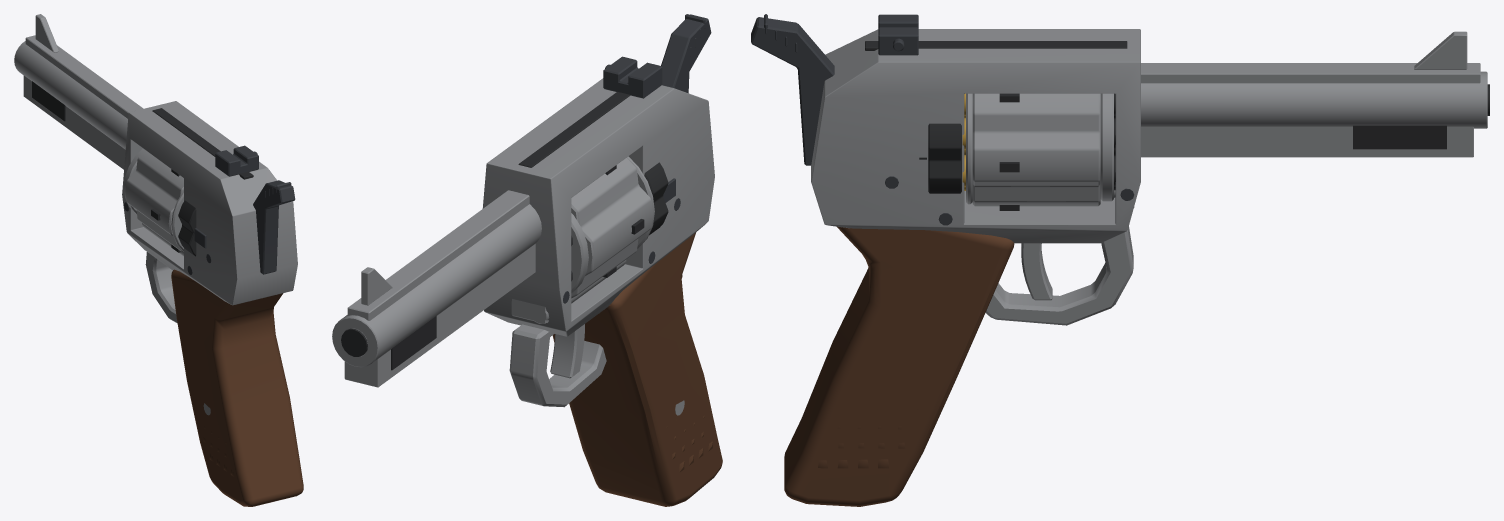
File: wpn_marshal_357.glb
3 views of the same model, side by side, from view 1: azimuth 30°, elevation 25°; view 2: azimuth 150°, elevation 25°; view 3: azimuth 270°, elevation 25° (orthographic). The views are drawn at different scales.
Parts seen in each view (by area): view 1: GripPanels, Frame, Barrel, Cylinder, Hammer, TriggerGuard, FrameDetails, RearSight, SpeedloaderBody, BarrelDetails; view 2: Frame, GripPanels, Barrel, Cylinder, TriggerGuard, Hammer, RearSight, FrameDetails, BarrelDetails, Trigger, SpeedloaderBody, Crane; view 3: Frame, GripPanels, Barrel, Cylinder, TriggerGuard, Hammer, BarrelDetails, SpeedloaderBody, FrameDetails, RearSight, Trigger.
Part boxes in pixels (left/top/right/bottom): GripPanels: left=171, top=269, right=303, bottom=506; Frame: left=122, top=101, right=297, bottom=305; Barrel: left=14, top=14, right=143, bottom=169; Cylinder: left=123, top=148, right=183, bottom=252; Hammer: left=253, top=180, right=295, bottom=274; TriggerGuard: left=145, top=252, right=177, bottom=323; FrameDetails: left=124, top=108, right=253, bottom=274; RearSight: left=215, top=145, right=258, bottom=176; SpeedloaderBody: left=178, top=200, right=196, bottom=256; BarrelDetails: left=32, top=81, right=65, bottom=121; Frame: left=482, top=78, right=714, bottom=336; GripPanels: left=552, top=232, right=722, bottom=506; Barrel: left=332, top=190, right=541, bottom=387; Cylinder: left=571, top=156, right=654, bottom=298; TriggerGuard: left=509, top=324, right=606, bottom=407; Hammer: left=661, top=14, right=711, bottom=93; RearSight: left=603, top=56, right=662, bottom=98; FrameDetails: left=518, top=92, right=680, bottom=303; BarrelDetails: left=341, top=316, right=436, bottom=370; Trigger: left=550, top=324, right=584, bottom=378; SpeedloaderBody: left=644, top=162, right=668, bottom=235; Crane: left=511, top=260, right=626, bottom=323; Frame: left=811, top=29, right=1140, bottom=243; GripPanels: left=784, top=226, right=1014, bottom=506; Barrel: left=1141, top=31, right=1487, bottom=157; Cylinder: left=966, top=93, right=1113, bottom=206; TriggerGuard: left=985, top=226, right=1133, bottom=325; Hammer: left=751, top=14, right=834, bottom=165; BarrelDetails: left=1353, top=84, right=1489, bottom=149; SpeedloaderBody: left=919, top=123, right=961, bottom=193; FrameDetails: left=865, top=41, right=1134, bottom=225; RearSight: left=878, top=14, right=918, bottom=55; Trigger: left=1021, top=243, right=1052, bottom=300.
Size of the model in its own units: 0.043 by 0.1548 by 0.2195.
